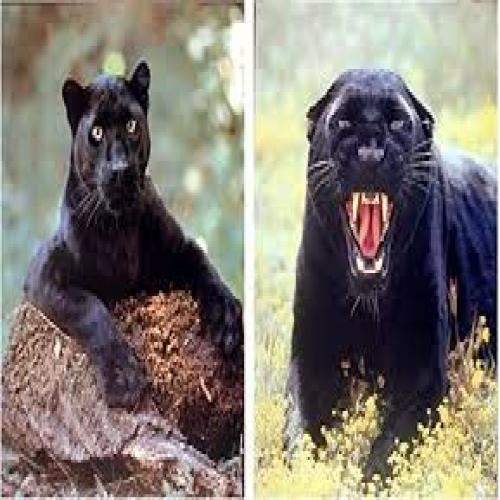panther-endangered: (286, 60, 500, 485), (22, 61, 243, 413)
